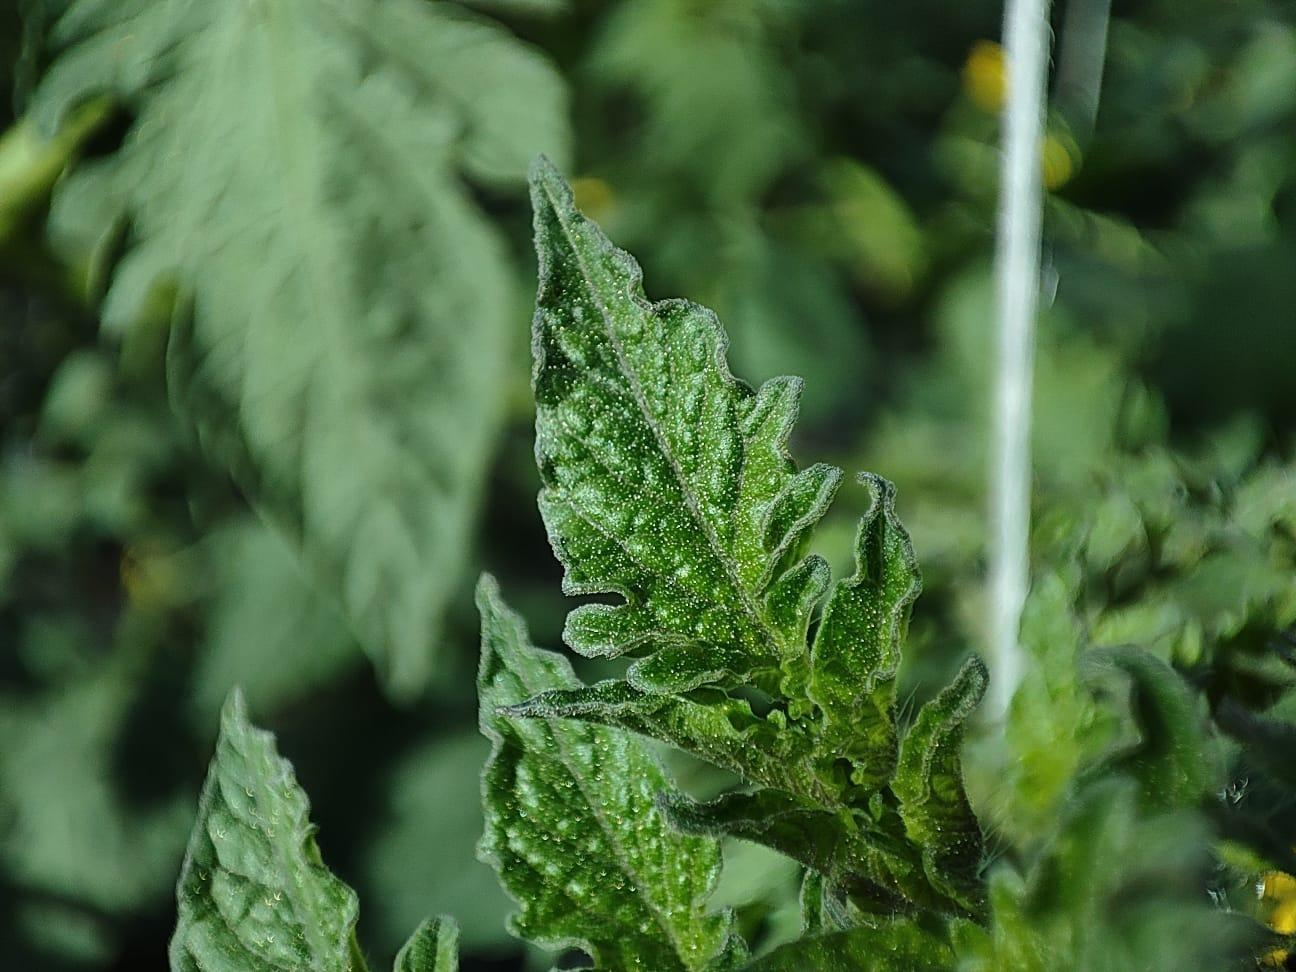Hoja rugoso: (532, 164, 841, 703), (476, 575, 747, 970), (169, 691, 363, 971), (812, 474, 918, 712)
